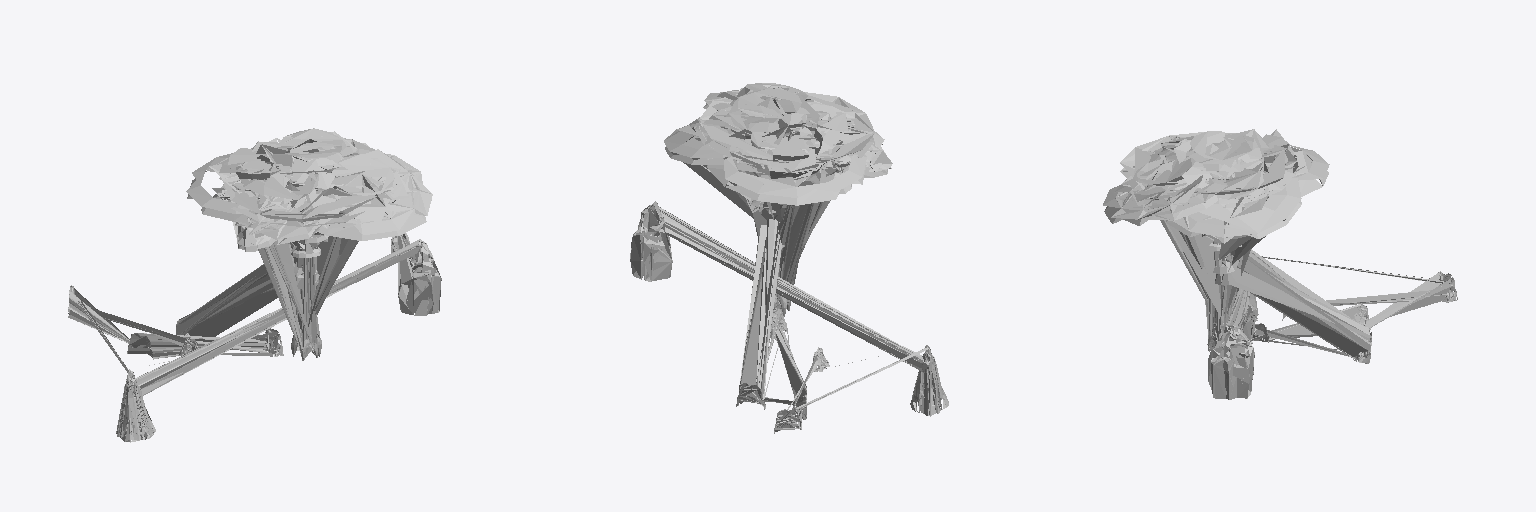
File: cellMoss_VerdantBluffs_Proxy-sharedassets3.assets-598.obj
3 views of the same model, side by side, from view 1: azimuth 30°, elevation 25°; view 2: azimuth 150°, elevation 25°; view 3: azimuth 270°, elevation 25° (orthographic).
Visible parts, largest first — view 1: cellMoss_VerdantBluffs_Proxy_0, cellMoss_VerdantBluffs_Proxy_1, cellMoss_VerdantBluffs_Proxy_4, cellMoss_VerdantBluffs_Proxy_5; view 2: cellMoss_VerdantBluffs_Proxy_0, cellMoss_VerdantBluffs_Proxy_1, cellMoss_VerdantBluffs_Proxy_4, cellMoss_VerdantBluffs_Proxy_6; view 3: cellMoss_VerdantBluffs_Proxy_0, cellMoss_VerdantBluffs_Proxy_1, cellMoss_VerdantBluffs_Proxy_4, cellMoss_VerdantBluffs_Proxy_5.
Part boxes in pixels (left/top/right/bottom): cellMoss_VerdantBluffs_Proxy_0: left=68, top=128, right=441, bottom=442; cellMoss_VerdantBluffs_Proxy_1: left=201, top=128, right=430, bottom=354; cellMoss_VerdantBluffs_Proxy_4: left=68, top=136, right=432, bottom=438; cellMoss_VerdantBluffs_Proxy_5: left=296, top=233, right=348, bottom=358; cellMoss_VerdantBluffs_Proxy_0: left=630, top=83, right=948, bottom=433; cellMoss_VerdantBluffs_Proxy_1: left=664, top=85, right=892, bottom=310; cellMoss_VerdantBluffs_Proxy_4: left=664, top=83, right=939, bottom=432; cellMoss_VerdantBluffs_Proxy_6: left=776, top=149, right=886, bottom=305; cellMoss_VerdantBluffs_Proxy_0: left=1105, top=129, right=1457, bottom=399; cellMoss_VerdantBluffs_Proxy_1: left=1112, top=132, right=1301, bottom=346; cellMoss_VerdantBluffs_Proxy_4: left=1103, top=129, right=1456, bottom=361; cellMoss_VerdantBluffs_Proxy_5: left=1168, top=224, right=1231, bottom=346.
Bounding box in the file's own units: 180 × 145 × 177.